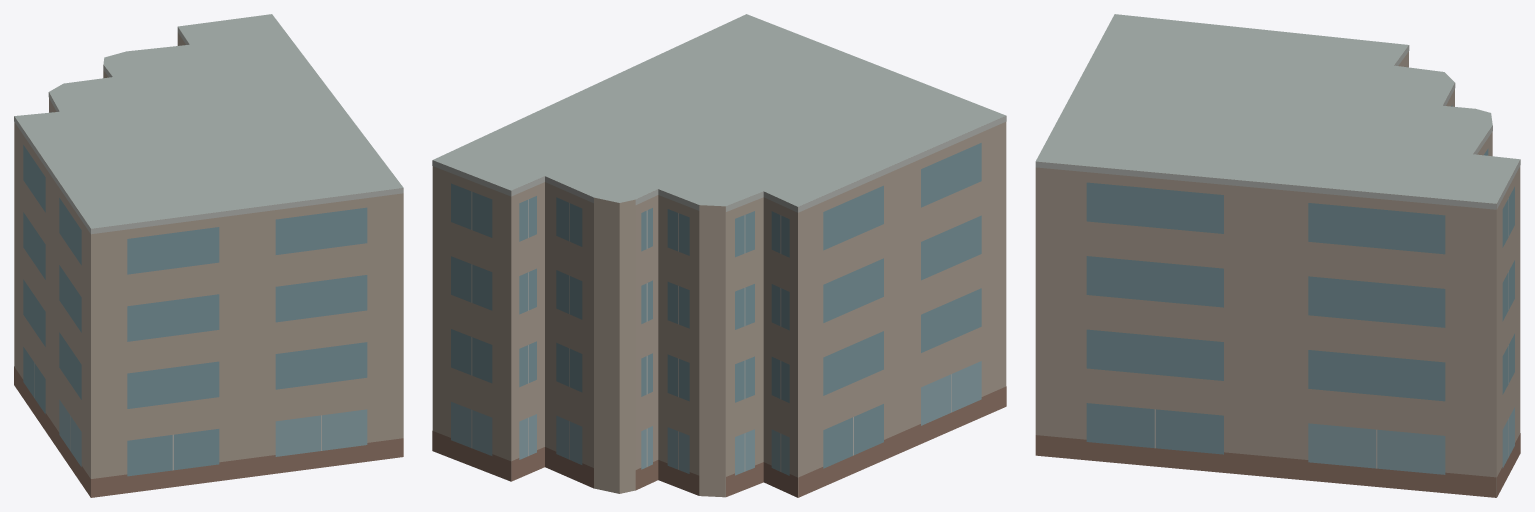
The model's file is survey-upis-32967266.glb.
3 views of the same model, side by side, from view 1: azimuth 30°, elevation 25°; view 2: azimuth 150°, elevation 25°; view 3: azimuth 270°, elevation 25° (orthographic). The views are drawn at different scales.
Visible parts, largest first — view 1: survey-upis-32967266.tmp; view 2: survey-upis-32967266.tmp; view 3: survey-upis-32967266.tmp.
Part boxes in pixels (left/top/right/bottom): survey-upis-32967266.tmp: left=14, top=14, right=403, bottom=497; survey-upis-32967266.tmp: left=432, top=14, right=1006, bottom=497; survey-upis-32967266.tmp: left=1035, top=14, right=1520, bottom=497.
Bounding box in the file's own units: 16.76 × 12.1 × 18.1.
